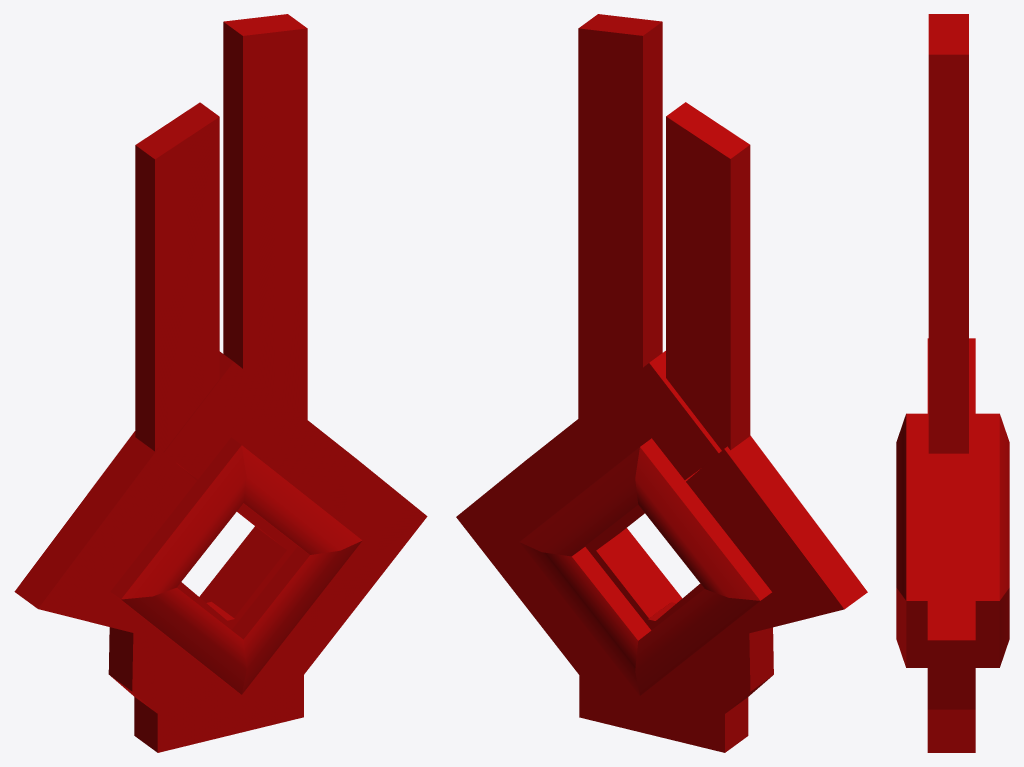
File: SM_Env_Monolith_02_Collision.gltf
The picture shows the model from 3 angles, left to right: view 1: azimuth 30°, elevation 25°; view 2: azimuth 150°, elevation 25°; view 3: azimuth 270°, elevation 25°; orthographic projection. The views are drawn at different scales.
Visible parts, largest first — view 1: SM_Env_Monolith_02_Collision; view 2: SM_Env_Monolith_02_Collision; view 3: SM_Env_Monolith_02_Collision.
Part boxes in pixels (x1=…): SM_Env_Monolith_02_Collision: x1=14, y1=14, x2=427, y2=752; SM_Env_Monolith_02_Collision: x1=456, y1=14, x2=867, y2=752; SM_Env_Monolith_02_Collision: x1=896, y1=14, x2=1009, y2=752.
Bounding box in the file's own units: 12.28 × 20.95 × 3.04.
